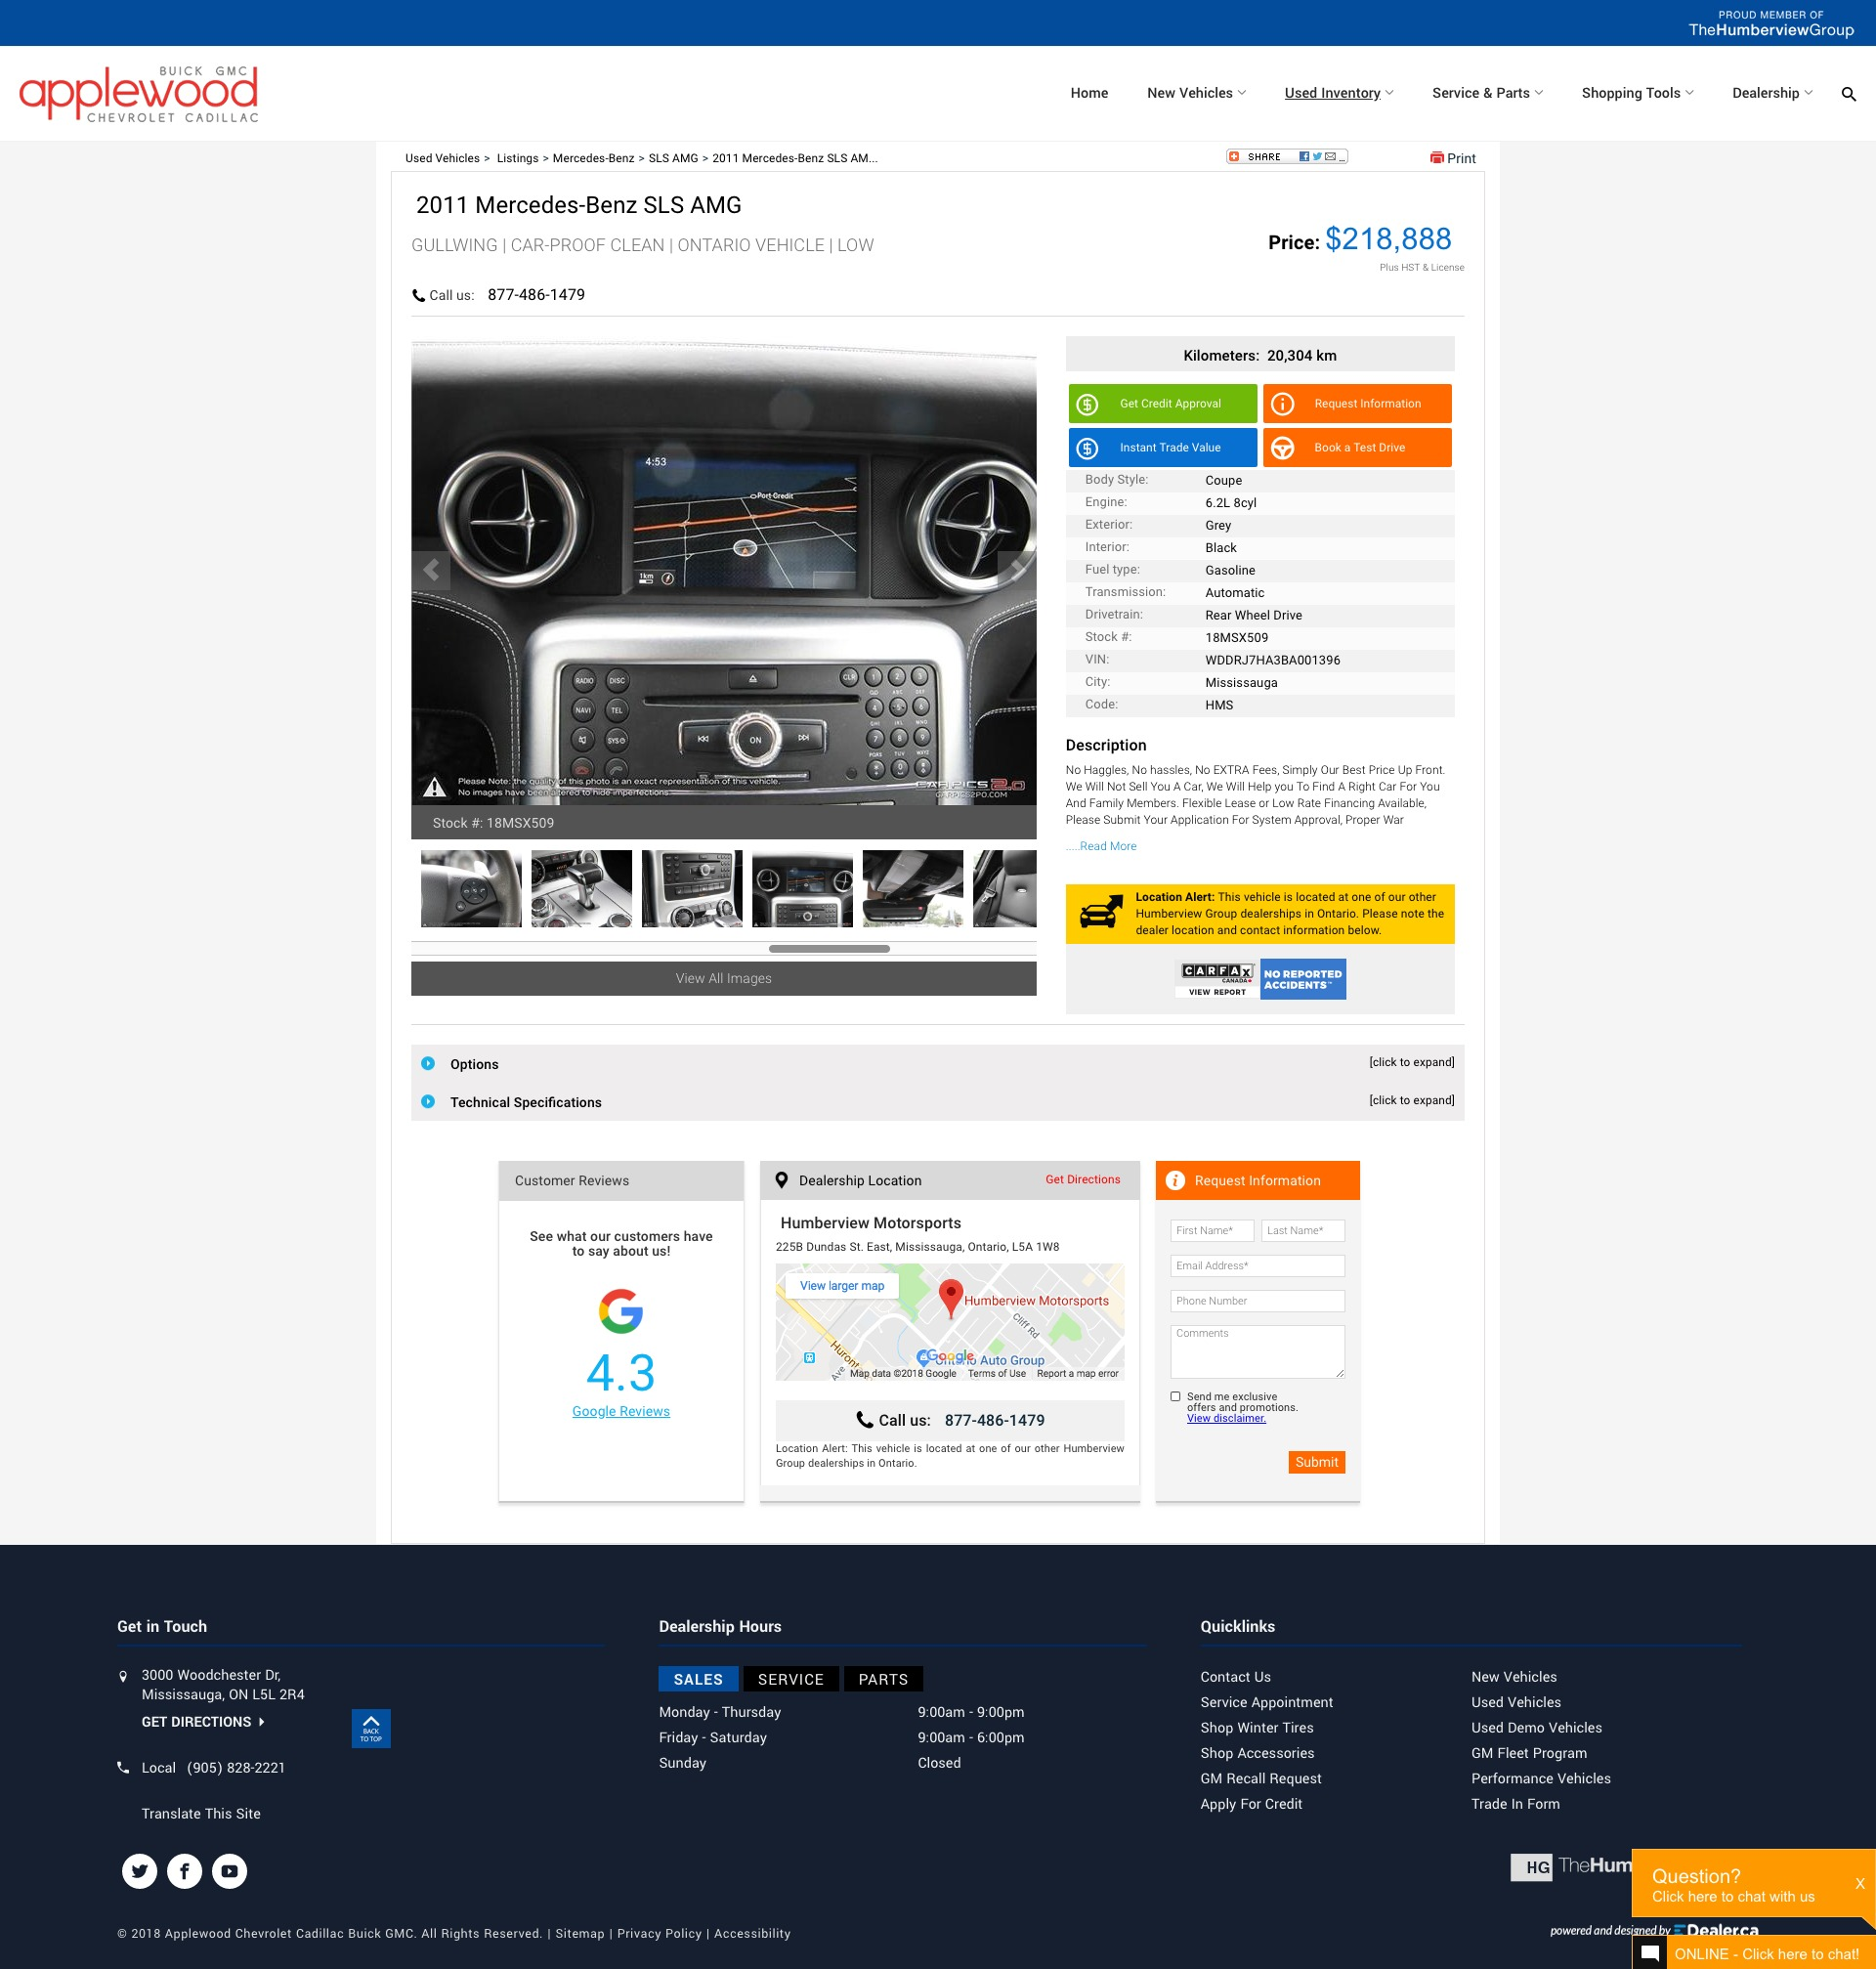car: (995, 550, 1039, 592)
